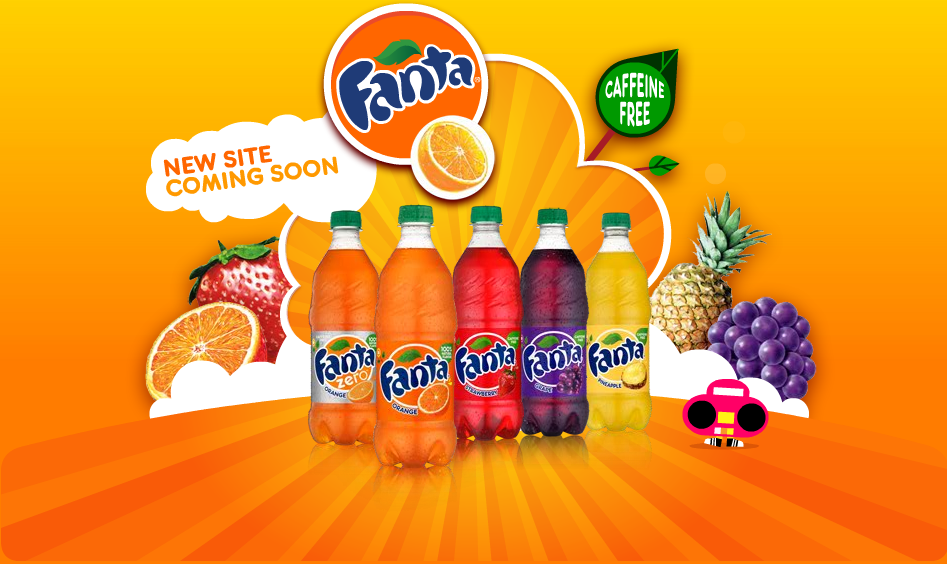Fanta: (382, 199, 455, 473), (457, 192, 524, 452), (316, 215, 371, 451)
